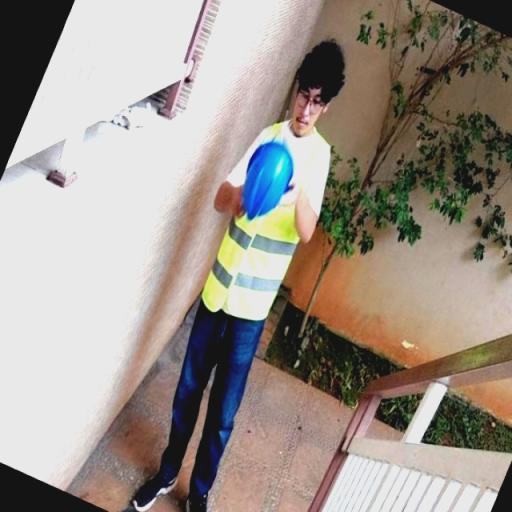Person: (92, 21, 386, 510), (147, 31, 382, 508)
boots: (127, 468, 165, 510), (182, 494, 212, 512)
goggles: (287, 89, 340, 118)
helmet: (232, 134, 298, 227)
none: (288, 25, 356, 98), (212, 181, 254, 222), (276, 180, 317, 220)
vest: (205, 108, 334, 332)
